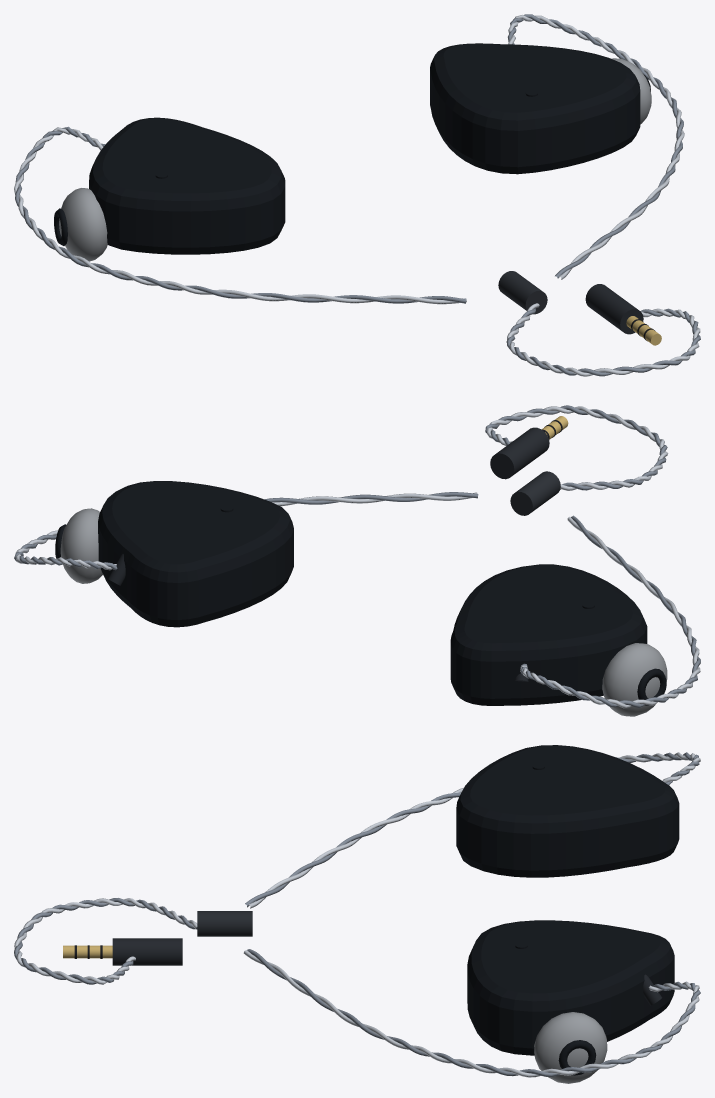
The model's file is supermix4-earphones.glb.
3 renders of one model, top to bottom at view 1: azimuth 30°, elevation 25°; view 2: azimuth 150°, elevation 25°; view 3: azimuth 270°, elevation 25°, orthographic. The views are drawn at different scales.
Visible parts, largest first — view 1: 블랙 레진 하우징 (×2), 왼쪽 이어훅 케이블 (×2), 오른쪽 이어훅 케이블 (×2), 회색 실리콘 이어팁 (×2), 실버 브레이드 주 케이블 (×2), 플러그 배럴, Y 스플리터; view 2: 블랙 레진 하우징 (×2), 회색 실리콘 이어팁 (×2), 왼쪽 이어훅 케이블 (×2), 오른쪽 이어훅 케이블 (×2), 실버 브레이드 주 케이블 (×2), 플러그 배럴, Y 스플리터, 이어팁 개구; view 3: 블랙 레진 하우징 (×2), 오른쪽 이어훅 케이블 (×2), 회색 실리콘 이어팁, 왼쪽 이어훅 케이블 (×2), 실버 브레이드 주 케이블 (×2), 플러그 배럴, Y 스플리터, 3.5mm 오디오 플러그, 이어팁 개구.
Boxes of the visible parts, x1=… form: 블랙 레진 하우징 (×2): x1=89, y1=43, x2=640, y2=254; 왼쪽 이어훅 케이블 (×2): x1=14, y1=126, x2=466, y2=304; 오른쪽 이어훅 케이블 (×2): x1=507, y1=14, x2=684, y2=279; 회색 실리콘 이어팁 (×2): x1=59, y1=58, x2=651, y2=261; 실버 브레이드 주 케이블 (×2): x1=506, y1=303, x2=700, y2=376; 플러그 배럴: x1=585, y1=284, x2=643, y2=334; Y 스플리터: x1=498, y1=271, x2=547, y2=314; 블랙 레진 하우징 (×2): x1=98, y1=481, x2=647, y2=705; 회색 실리콘 이어팁 (×2): x1=60, y1=508, x2=667, y2=716; 왼쪽 이어훅 케이블 (×2): x1=520, y1=515, x2=700, y2=708; 오른쪽 이어훅 케이블 (×2): x1=14, y1=492, x2=478, y2=570; 실버 브레이드 주 케이블 (×2): x1=485, y1=405, x2=668, y2=490; 플러그 배럴: x1=490, y1=427, x2=549, y2=479; Y 스플리터: x1=510, y1=471, x2=560, y2=515; 이어팁 개구: x1=637, y1=668, x2=666, y2=705; 블랙 레진 하우징 (×2): x1=456, y1=745, x2=679, y2=1055; 오른쪽 이어훅 케이블 (×2): x1=243, y1=949, x2=700, y2=1077; 회색 실리콘 이어팁: x1=534, y1=1012, x2=607, y2=1083; 왼쪽 이어훅 케이블 (×2): x1=245, y1=752, x2=700, y2=908; 실버 브레이드 주 케이블 (×2): x1=14, y1=898, x2=197, y2=984; 플러그 배럴: x1=112, y1=938, x2=182, y2=965; Y 스플리터: x1=197, y1=911, x2=252, y2=936; 3.5mm 오디오 플러그: x1=63, y1=945, x2=112, y2=958; 이어팁 개구: x1=558, y1=1040, x2=596, y2=1075.
Size of the model in its own units: 3.97 by 0.4877 by 3.73.
